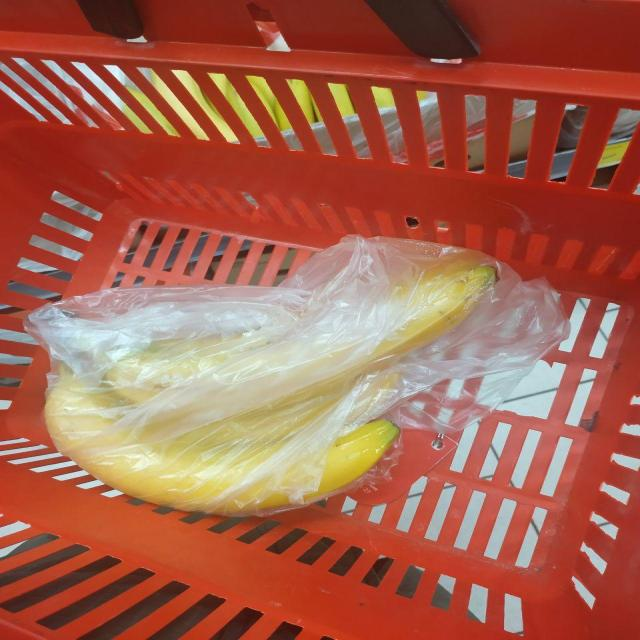banana: (126, 262, 475, 640), (226, 170, 640, 464), (105, 185, 336, 542)
